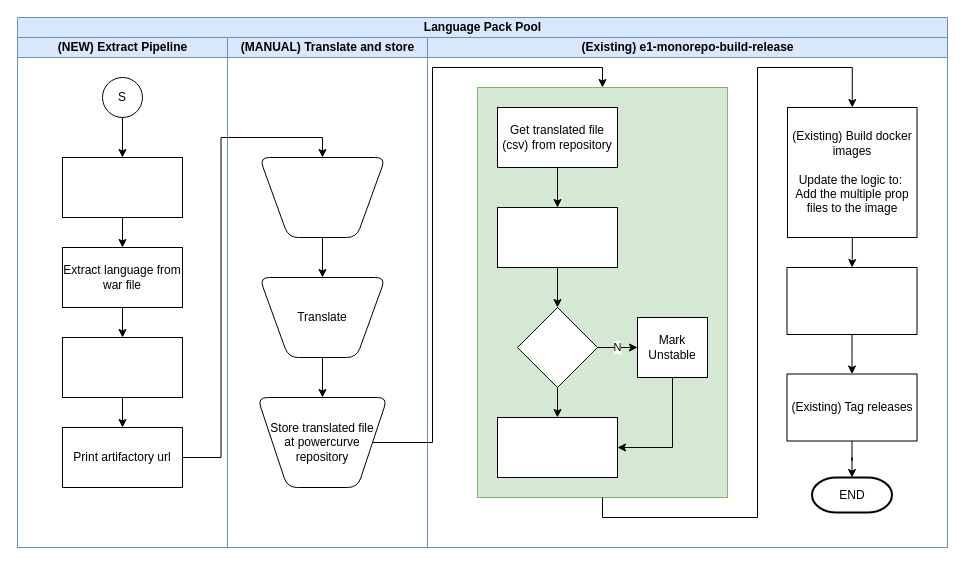
The diagram is 965 pixels wide and 565 high, and some of its shapes have lost their labels. The centre of each missing label's shape, as x and y in pixels:
(Existing) Create releases: pixel 851 300
Put into artifactory: pixel 122 367
Retrieve file for translator: pixel 322 197
Retrieve war file, based on release/ release tag: pixel 122 187
Translate tools - Convert csv to multiple prop files: pixel 557 447
Translate tools - Validate: pixel 557 237
Valid: pixel 557 347
